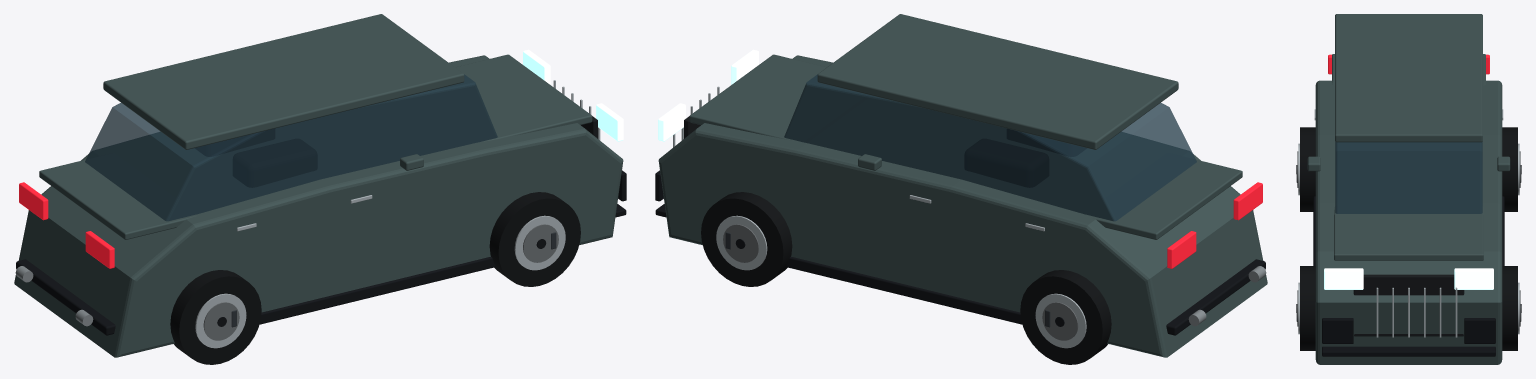
File: chevy_brightdrop_600.glb
3 renders of one model, left to right at view 1: azimuth 30°, elevation 25°; view 2: azimuth 150°, elevation 25°; view 3: azimuth 270°, elevation 25°, orthographic. The views are drawn at different scales.
Visible parts, largest first — view 1: sculpted_body, glasshouse, roof, hood_center, rear_deck, rear_right_wheel_tire, front_right_wheel_tire, side_skirt_1, seat_1, rear_diffuser, rear_right_wheel_rim, front_right_wheel_rim (+7 smaller); view 2: sculpted_body, glasshouse, roof, hood_center, rear_deck, rear_left_wheel_tire, front_left_wheel_tire, side_skirt_-1, seat_-1, rear_diffuser, rear_left_wheel_rim, front_left_wheel_rim (+7 smaller); view 3: sculpted_body, roof, glasshouse, hood_center, front_grille, front_splitter, front_left_wheel_tire, front_right_wheel_tire, rear_left_wheel_tire, rear_right_wheel_tire, headlight_right, headlight_left (+7 smaller).
Boxes of the visible parts, box(x1,y1,x2,y2) form: sculpted_body: box(14, 55, 623, 357); glasshouse: box(85, 74, 497, 221); roof: box(103, 14, 464, 149); hood_center: box(415, 54, 592, 142); rear_deck: box(39, 153, 198, 239); rear_right_wheel_tire: box(170, 270, 261, 364); front_right_wheel_tire: box(489, 192, 580, 286); side_skirt_1: box(259, 256, 495, 324); seat_1: box(233, 139, 316, 187); rear_diffuser: box(16, 259, 115, 335); rear_right_wheel_rim: box(195, 293, 246, 348); front_right_wheel_rim: box(514, 215, 565, 270); sculpted_body: box(658, 55, 1267, 357); glasshouse: box(784, 74, 1196, 221); roof: box(817, 14, 1178, 149); hood_center: box(689, 54, 866, 142); rear_deck: box(1083, 153, 1242, 239); rear_left_wheel_tire: box(1020, 270, 1111, 364); front_left_wheel_tire: box(701, 192, 792, 286); side_skirt_-1: box(786, 256, 1022, 324); seat_-1: box(965, 139, 1048, 187); rear_diffuser: box(1166, 259, 1265, 335); rear_left_wheel_rim: box(1035, 293, 1086, 348); front_left_wheel_rim: box(716, 215, 767, 270); sculpted_body: box(1315, 80, 1502, 364); roof: box(1335, 14, 1482, 142); glasshouse: box(1335, 142, 1482, 213); hood_center: box(1334, 206, 1483, 260); front_grille: box(1353, 274, 1464, 336); front_splitter: box(1322, 346, 1495, 356); front_left_wheel_tire: box(1502, 266, 1517, 350); front_right_wheel_tire: box(1300, 266, 1315, 350); rear_left_wheel_tire: box(1502, 127, 1517, 211); rear_right_wheel_tire: box(1300, 127, 1315, 211); headlight_right: box(1324, 268, 1363, 289); headlight_left: box(1454, 268, 1493, 289).
Bounding box in the file's own units: 5.56 × 2.1 × 2.28.
